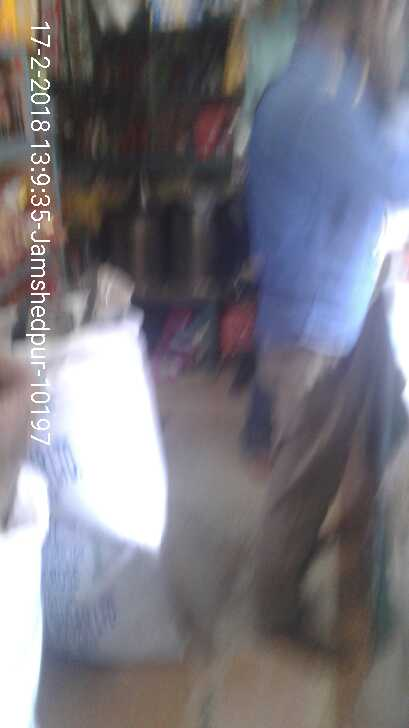reject: (143, 255, 381, 336)
